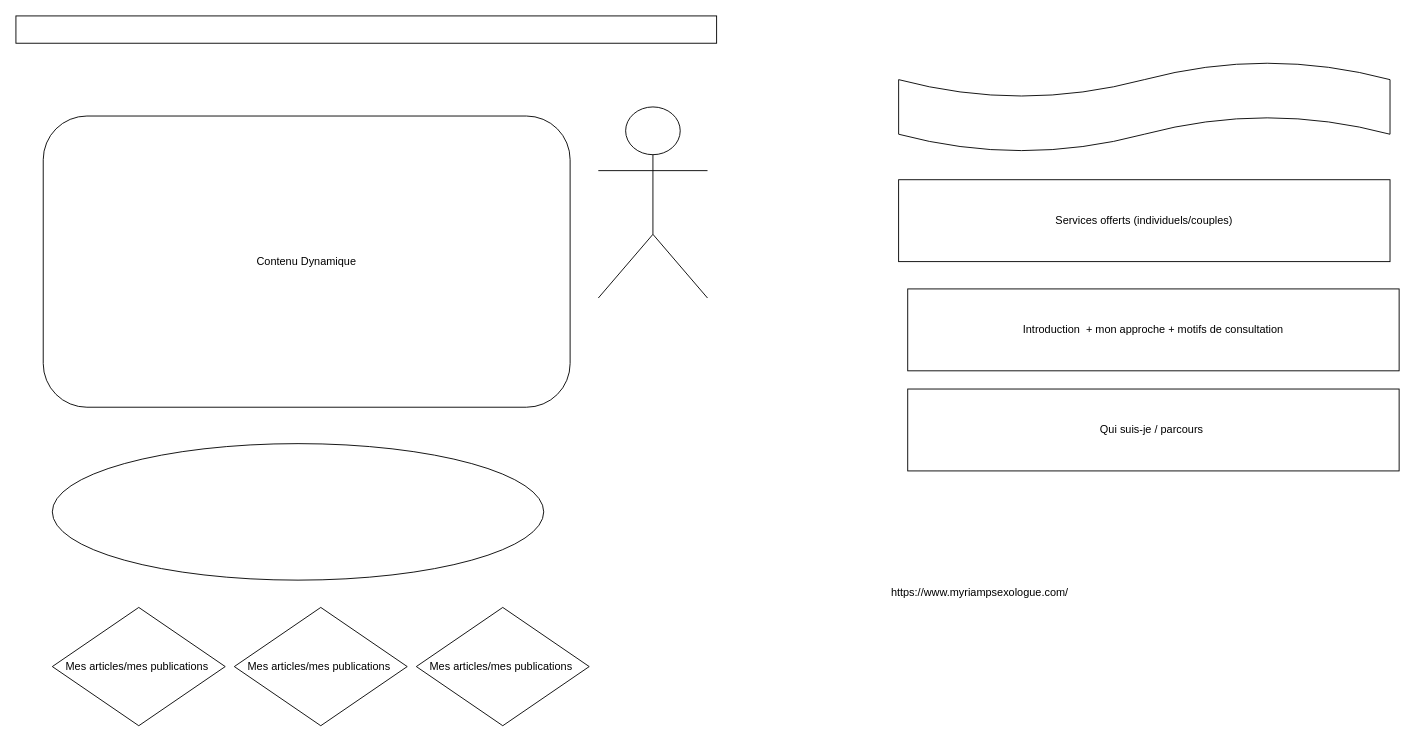
Some shapes in this 1415 by 742 pixel diagram are drawn without their labels. Here are the shapes that lost their labels. From the top down, the centre of each, then its label:
point (366, 29): Mission Approche-motifs de consultations Services offerts qui suis-je
point (1144, 106): Ma mission : pour une sexualité affirmé, libre et épanouissante
point (652, 202): Ma face
point (297, 511): Pour prendre RDV (email)
